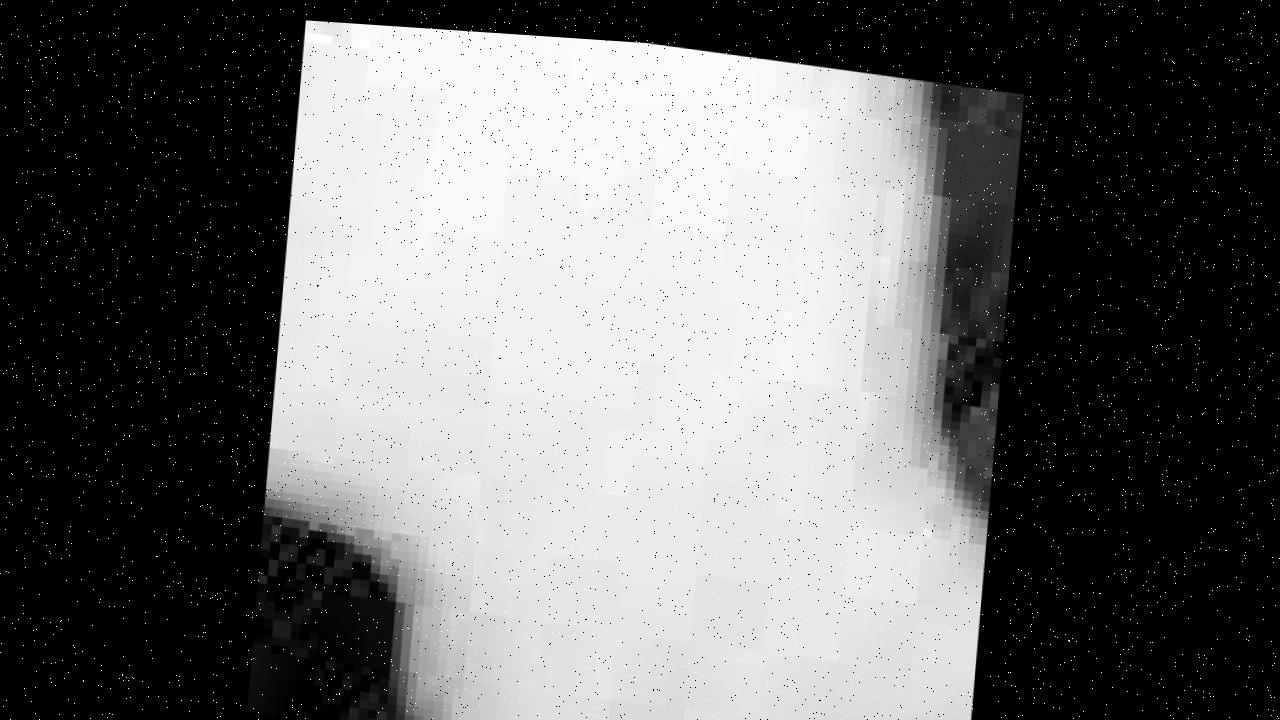drinks Stains: (248, 13, 1024, 720)
